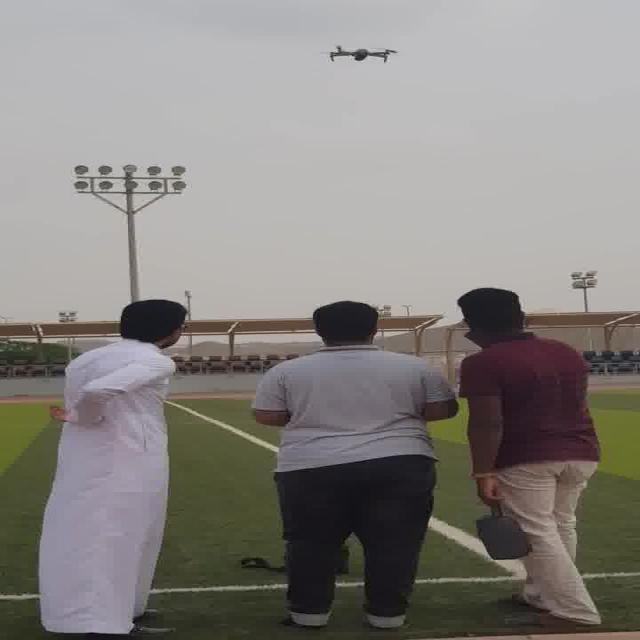drone: (321, 41, 402, 64)
